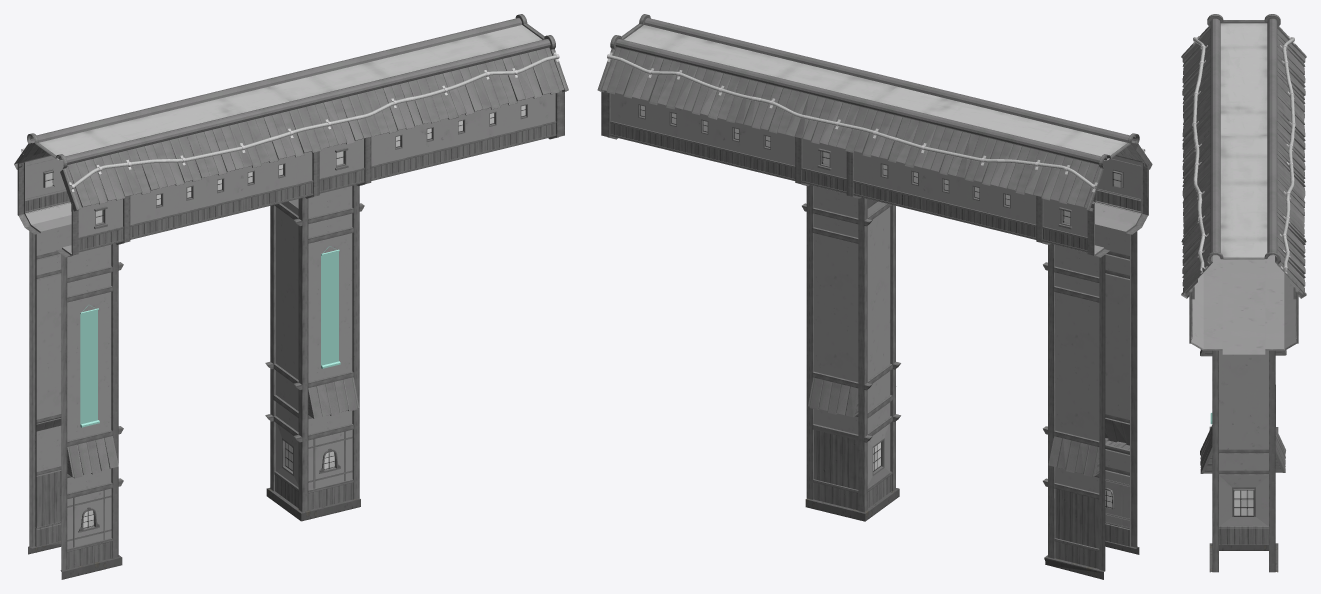
The model's file is SM_ENV_KNVLLG_gate_A.mo.fbx.
3 renders of one model, left to right at view 1: azimuth 30°, elevation 25°; view 2: azimuth 150°, elevation 25°; view 3: azimuth 270°, elevation 25°, orthographic.
Parts seen in each view (by area): view 1: SM_ENV_KNVLLG_gate_A.mo; view 2: SM_ENV_KNVLLG_gate_A.mo; view 3: SM_ENV_KNVLLG_gate_A.mo.
Part boxes in pixels (x1=…): SM_ENV_KNVLLG_gate_A.mo: x1=14, y1=14, x2=568, y2=579; SM_ENV_KNVLLG_gate_A.mo: x1=597, y1=14, x2=1152, y2=579; SM_ENV_KNVLLG_gate_A.mo: x1=1181, y1=14, x2=1306, y2=572.
Bounding box in the file's own units: 33.07 × 27.03 × 7.29.
